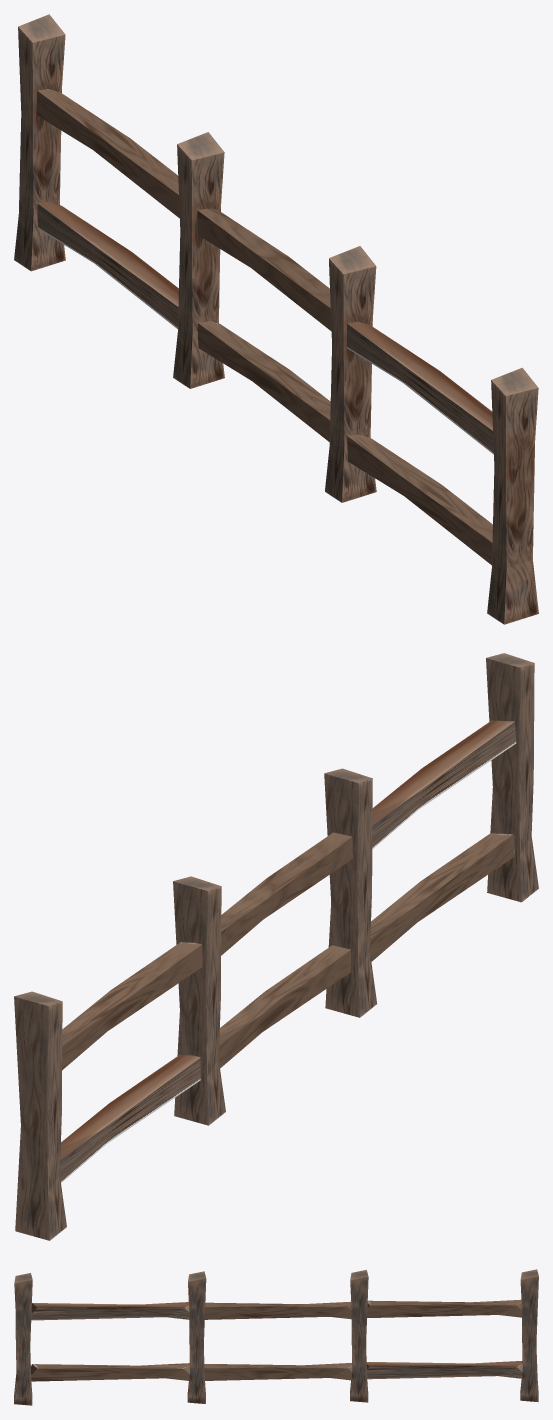
The model's file is ZaunNew1.fbx.
3 renders of one model, top to bottom at view 1: azimuth 30°, elevation 25°; view 2: azimuth 150°, elevation 25°; view 3: azimuth 270°, elevation 25°, orthographic. The views are drawn at different scales.
Parts seen in each view (by area): view 1: Cube.009, Cube, Cube.001, Cube.006, Cube.007, Cube.008, Cube.002, Cube.003, Cube.004, Cube.005; view 2: Cube.001, Cube.006, Cube.009, Cube, Cube.008, Cube.007, Cube.003, Cube.002, Cube.005, Cube.004; view 3: Cube.008, Cube.007, Cube.003, Cube.002, Cube.005, Cube.004, Cube.009, Cube, Cube.006, Cube.001.
Part boxes in pixels (x1=…): Cube.009: x1=487, y1=367, x2=538, y2=624; Cube: x1=173, y1=132, x2=224, y2=388; Cube.001: x1=14, y1=14, x2=65, y2=271; Cube.006: x1=325, y1=246, x2=376, y2=502; Cube.007: x1=347, y1=321, x2=493, y2=454; Cube.008: x1=347, y1=434, x2=492, y2=565; Cube.002: x1=37, y1=89, x2=179, y2=218; Cube.003: x1=37, y1=202, x2=178, y2=328; Cube.004: x1=197, y1=208, x2=331, y2=331; Cube.005: x1=197, y1=321, x2=330, y2=441; Cube.001: x1=14, y1=991, x2=66, y2=1240; Cube.006: x1=324, y1=768, x2=377, y2=1017; Cube.009: x1=486, y1=653, x2=538, y2=902; Cube: x1=173, y1=876, x2=225, y2=1125; Cube.008: x1=370, y1=833, x2=514, y2=961; Cube.007: x1=372, y1=720, x2=516, y2=848; Cube.003: x1=59, y1=1055, x2=200, y2=1182; Cube.002: x1=62, y1=942, x2=202, y2=1069; Cube.005: x1=218, y1=945, x2=350, y2=1068; Cube.004: x1=221, y1=832, x2=352, y2=955; Cube.008: x1=31, y1=1363, x2=189, y2=1381; Cube.007: x1=31, y1=1302, x2=189, y2=1320; Cube.003: x1=366, y1=1361, x2=522, y2=1379; Cube.002: x1=367, y1=1299, x2=521, y2=1317; Cube.005: x1=204, y1=1363, x2=352, y2=1380; Cube.004: x1=204, y1=1301, x2=351, y2=1319; Cube.009: x1=14, y1=1273, x2=32, y2=1405; Cube: x1=350, y1=1269, x2=368, y2=1402; Cube.006: x1=187, y1=1271, x2=206, y2=1403; Cube.001: x1=520, y1=1269, x2=538, y2=1402.
Bounding box in the file's own units: 46.95 × 304 × 1108.
